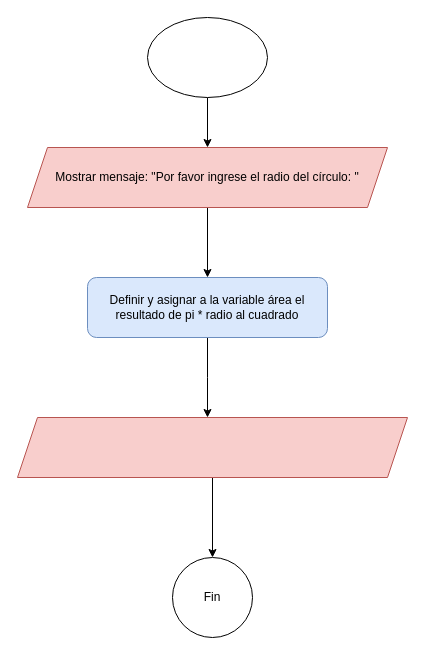
The diagram is 425 pixels wide and 655 high, and some of its shapes have lost their labels. Here are the shapes that lost their labels. From the top down, the centre of each, then its label:
the point at 207,57: Inicio
the point at 212,447: Mostrar mensjae: "El área del círculo con radio", radio, "es:", area
